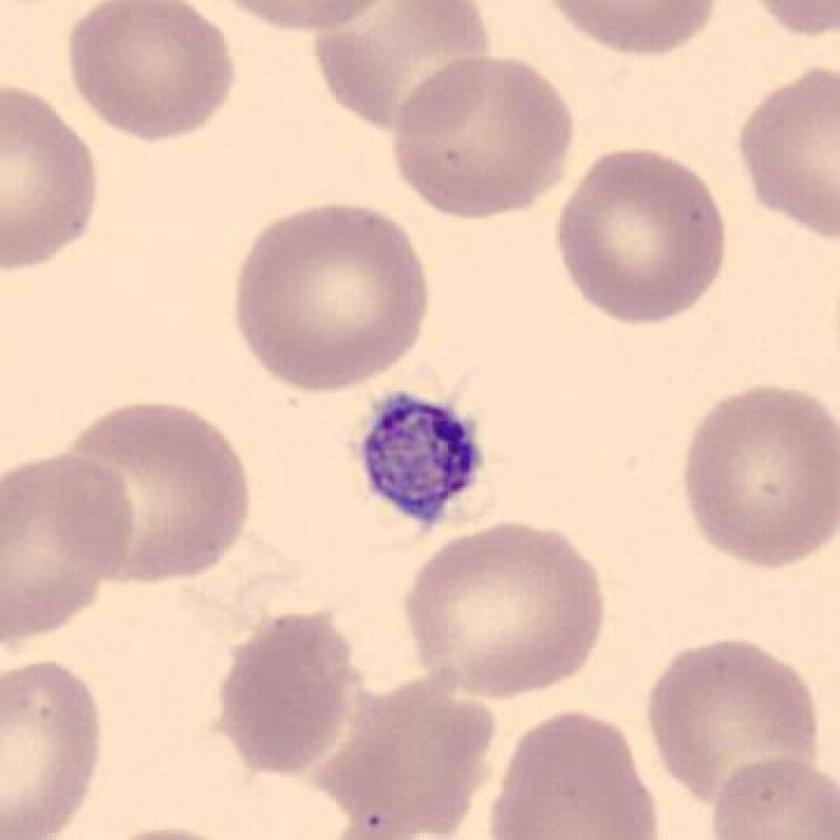platelets: (351, 385, 486, 536)
